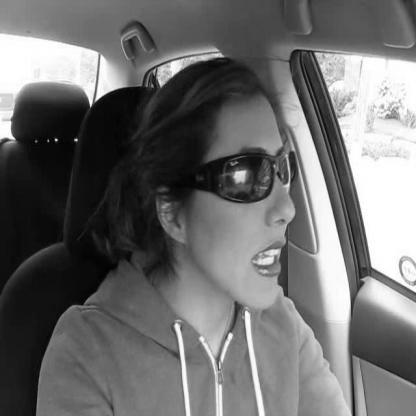no-seatbelt: (132, 59, 302, 415)
